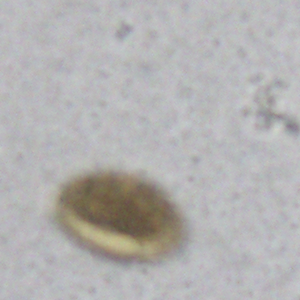Fasciola_hepatica_egg: (48, 169, 187, 263)
